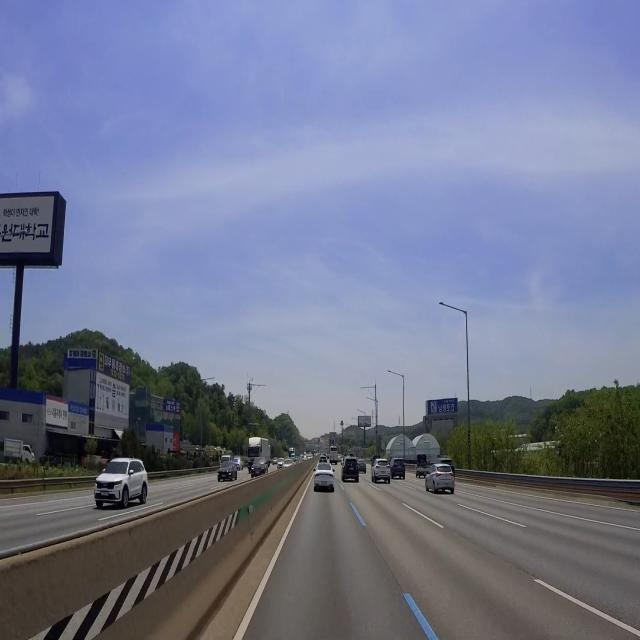car: (318, 477, 331, 490), (98, 490, 111, 499)
